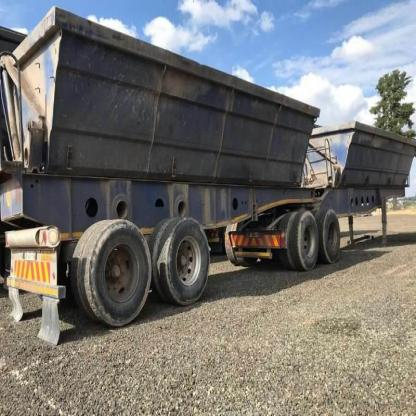dump_truck: (6, 6, 416, 332)
